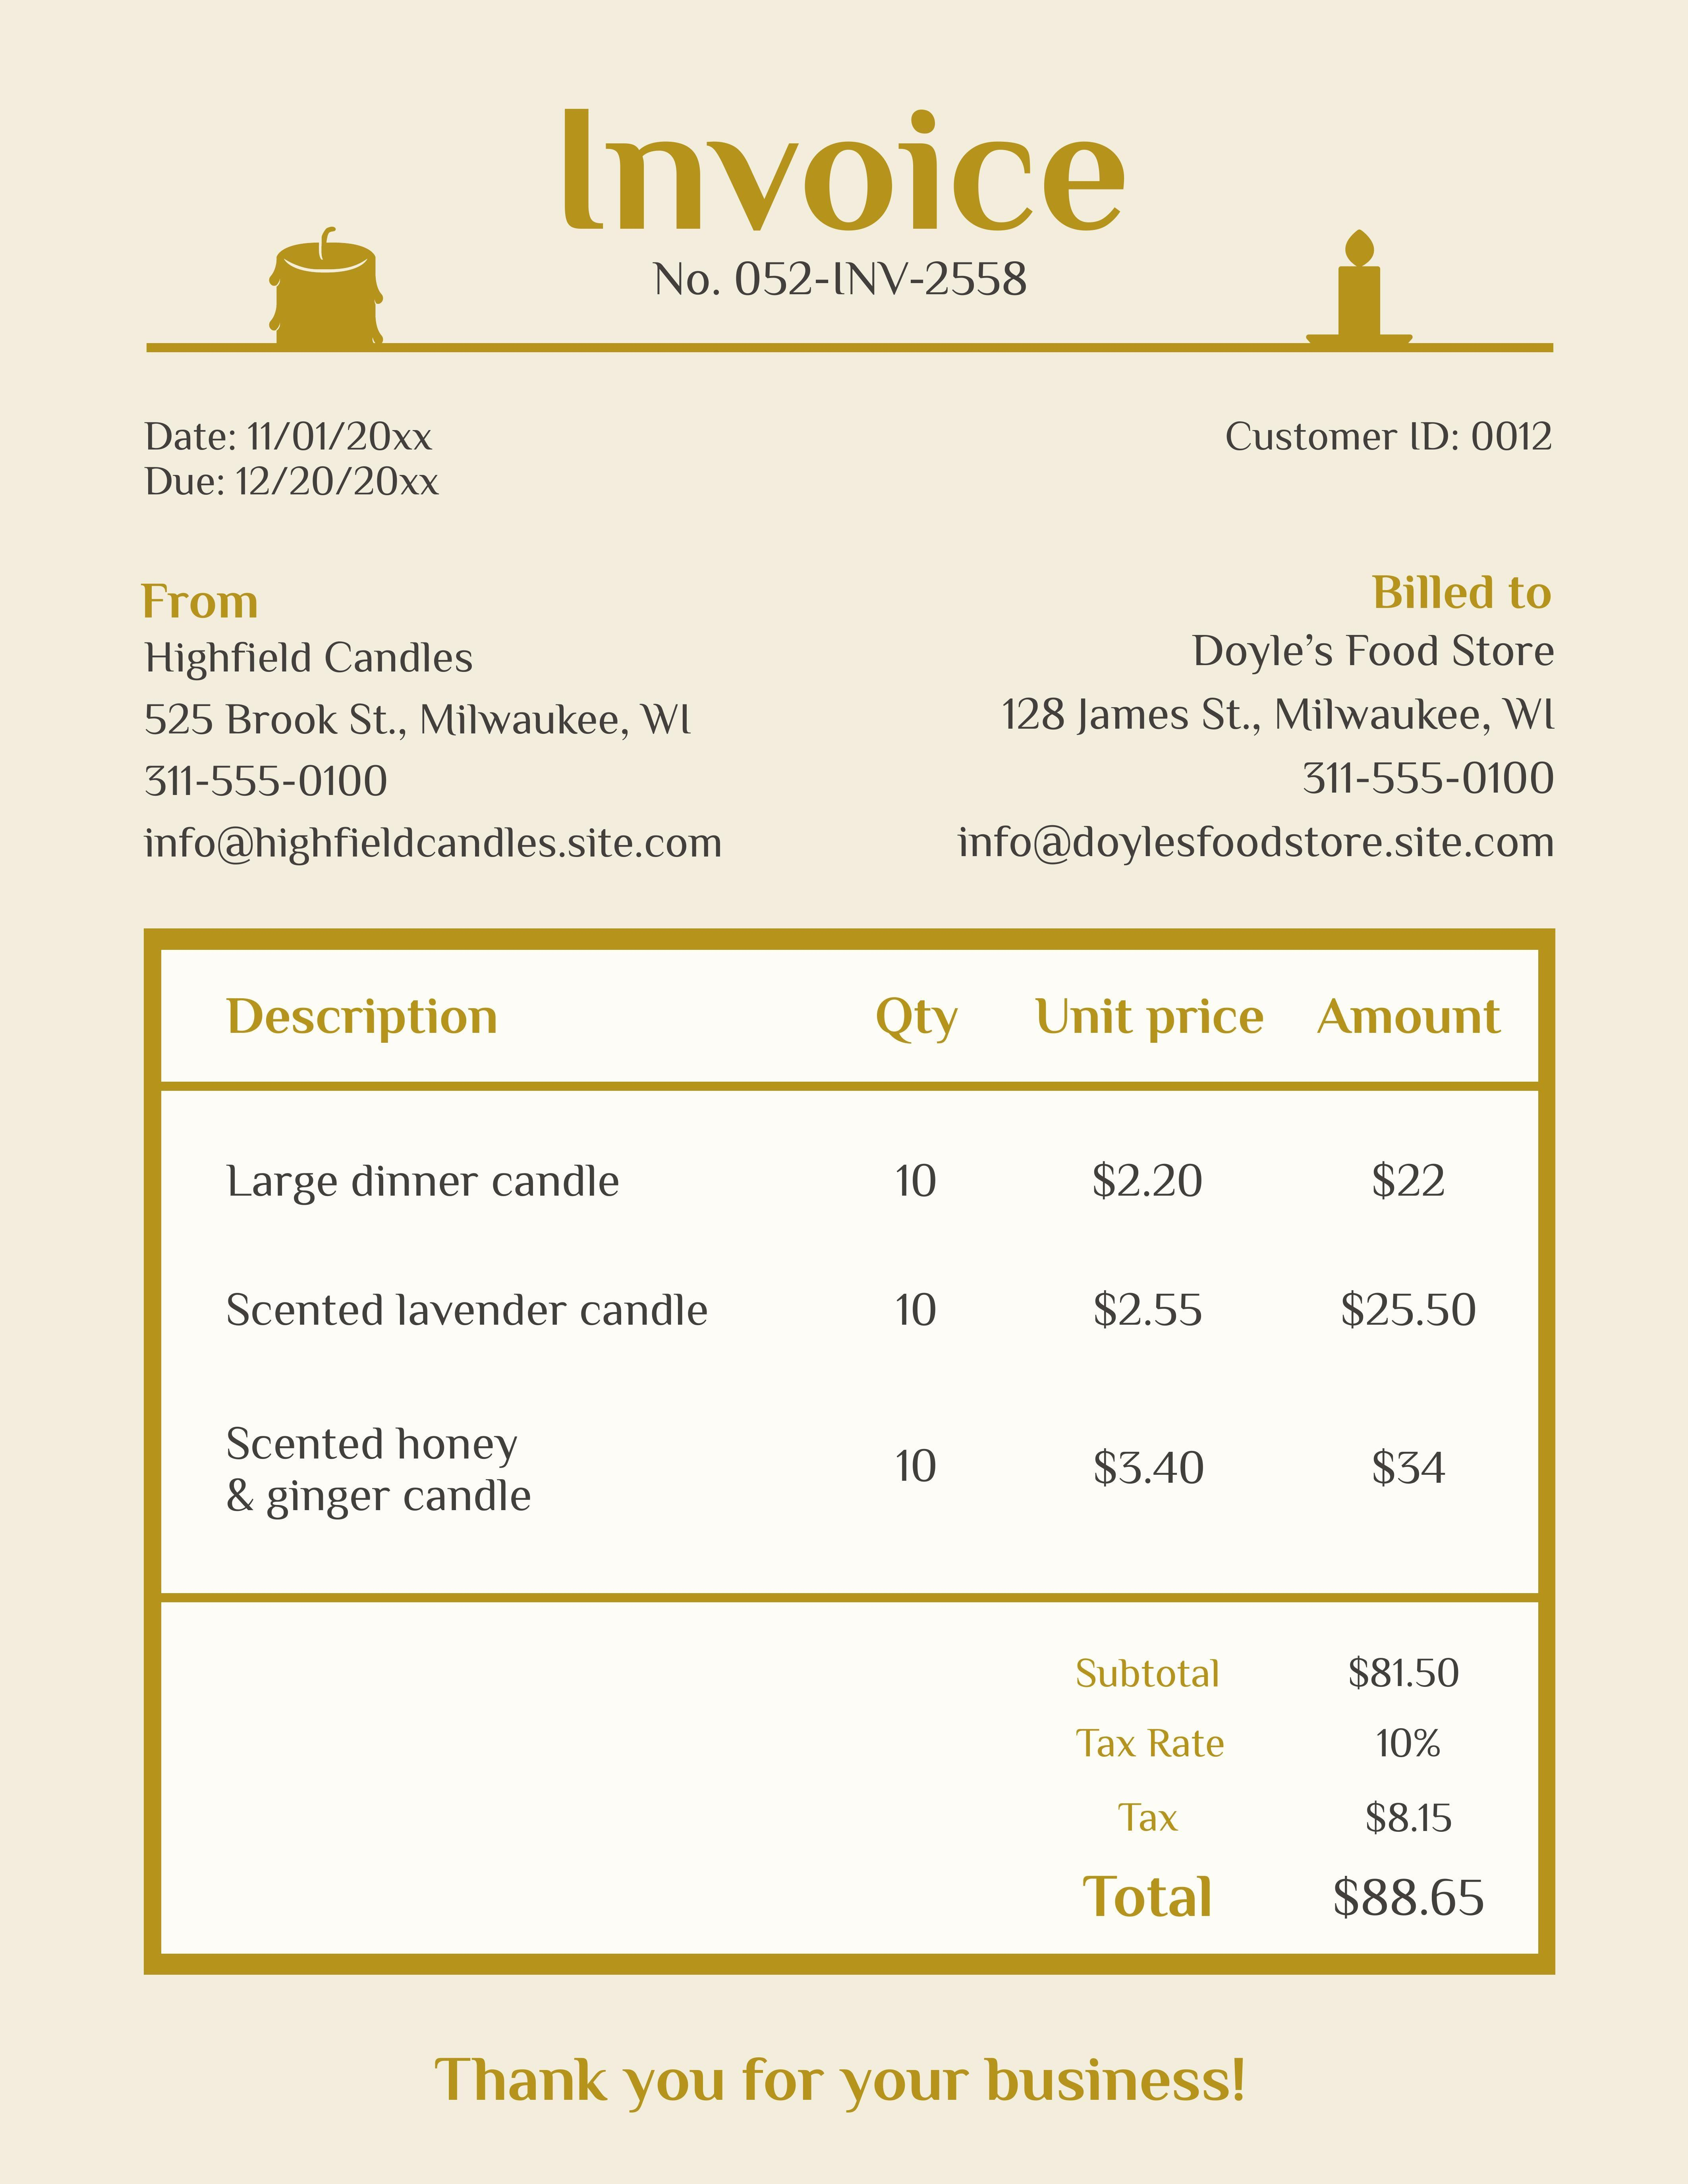ROI: (163, 945, 1541, 1588), (99, 238, 1560, 503), (949, 576, 1566, 870), (122, 589, 743, 874), (1044, 1640, 1493, 1934)
